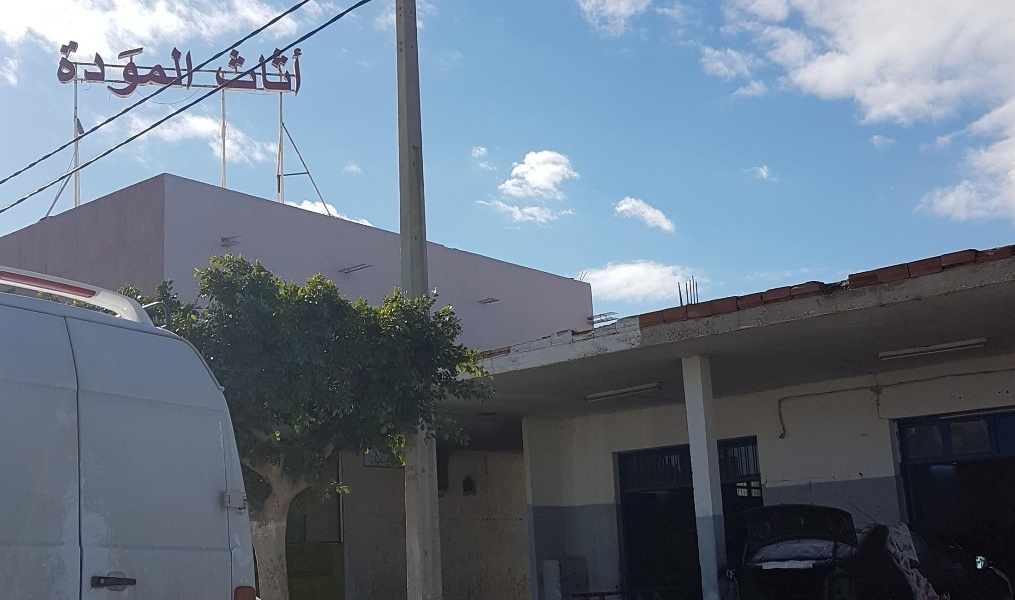text: (177, 41, 193, 101), (65, 41, 80, 101), (81, 41, 96, 101), (97, 41, 112, 101), (113, 41, 128, 101), (129, 41, 144, 101), (145, 41, 160, 101), (161, 41, 176, 101), (225, 48, 240, 95), (241, 48, 256, 95), (257, 48, 272, 95), (273, 48, 288, 95), (289, 48, 302, 95), (218, 48, 224, 95), (371, 455, 384, 466), (62, 41, 64, 101), (387, 457, 400, 465), (385, 455, 387, 466)
